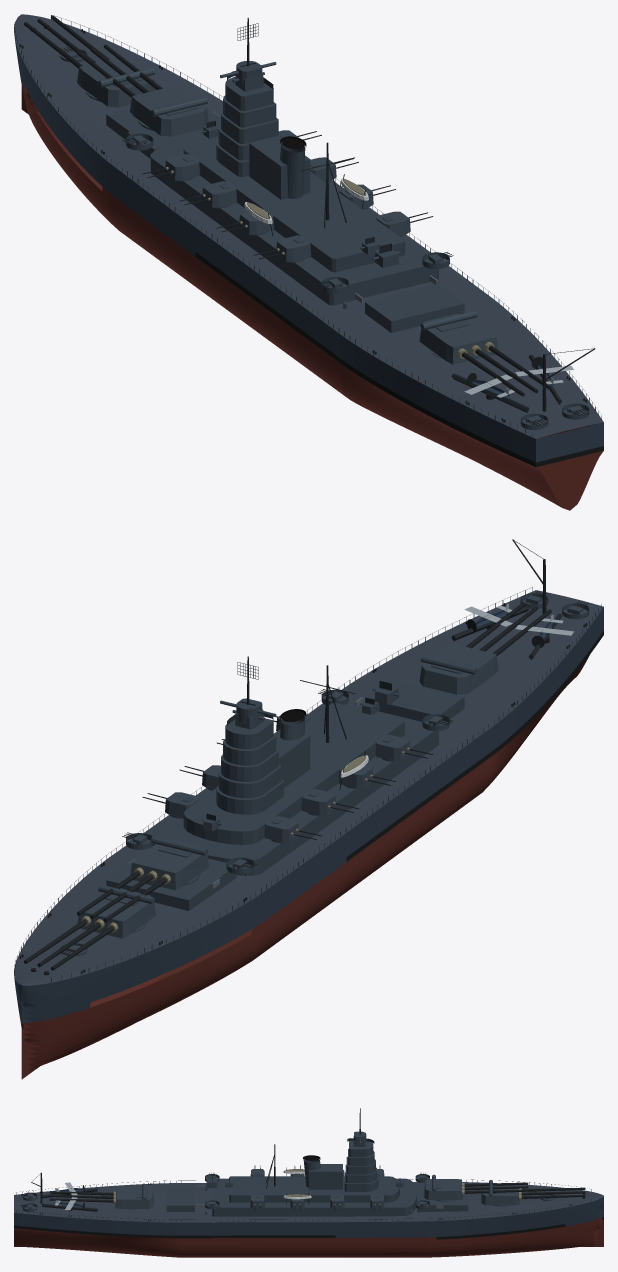
The model's file is south_dakota.glb.
3 views of the same model, one above another, from view 1: azimuth 30°, elevation 25°; view 2: azimuth 150°, elevation 25°; view 3: azimuth 270°, elevation 25° (orthographic). The views are drawn at different scales.
Parts seen in each view (by area): view 1: Hull, Turret2, Turret3, Turret1, Mount58, Mount54, Mount52, Mount56, Mount57; view 2: Hull, Turret3, Turret2, Turret1, Mount52, Mount58, Mount54; view 3: Hull, Turret3, Turret2, Turret1.
Part boxes in pixels (x1,y1,x2,y2): Hull: [14, 14, 603, 510]; Turret2: [76, 44, 208, 136]; Turret3: [419, 310, 551, 396]; Turret1: [24, 15, 155, 107]; Mount58: [253, 235, 311, 262]; Mount54: [179, 181, 237, 208]; Mount52: [142, 154, 200, 181]; Mount56: [216, 208, 274, 235]; Mount57: [376, 211, 433, 236]; Hull: [14, 539, 603, 1079]; Turret3: [419, 603, 551, 694]; Turret2: [76, 836, 208, 922]; Turret1: [24, 884, 156, 970]; Mount52: [264, 816, 321, 843]; Mount58: [375, 734, 432, 761]; Mount54: [301, 789, 358, 815]; Hull: [14, 1108, 603, 1257]; Turret3: [49, 1183, 153, 1209]; Turret2: [424, 1174, 528, 1201]; Turret1: [481, 1180, 585, 1206].
Bounding box in the file's own units: 38 × 53.7 × 207.
